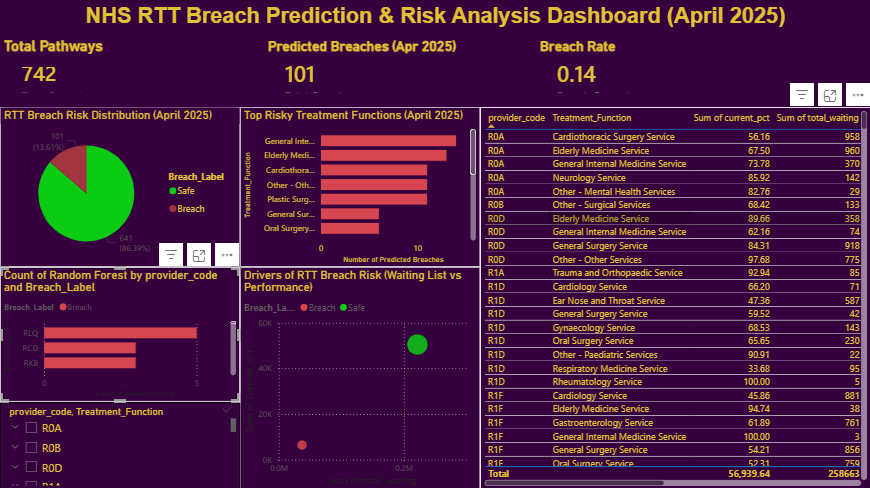

What the dashboard file says about the page in this screenshot:
{"tool":"powerbi","page":{"name":"Page 1","canvas":[1280,720],"ordinal":0},"visuals":[{"type":"cardVisual","title":"Total Pathways","fields":{"Data":["predicited_data_1 csv.Total_Records"]},"box":[0,54.4,388,102.9],"z":0},{"type":"cardVisual","title":"Predicted Breaches (Apr 2025)","fields":{"Data":["predicited_data_1 csv.Total_Breaches"]},"box":[388,54.4,399.7,102.9],"z":1},{"type":"cardVisual","title":"Breach Rate","fields":{"Data":["predicited_data_1 csv.Breach_Percentage"]},"box":[787.7,54.4,492.3,102.9],"z":2},{"type":"pieChart","title":"RTT Breach Risk Distribution (April 2025)","fields":{"Y":["CountNonNull(predicited_data_1 csv.Random Forest)"],"Category":["predicited_data_1 csv.Breach_Label"]},"box":[0,157.2,352.7,235.1],"z":3},{"type":"clusteredBarChart","title":"Top Risky Treatment Functions (April 2025)","fields":{"Category":["predicited_data_1 csv.Treatment_Function"],"Y":["CountNonNull(predicited_data_1 csv.Random Forest)"]},"box":[352.7,157.2,352.7,235.1],"z":4},{"type":"clusteredBarChart","fields":{"Category":["predicited_data_1 csv.provider_code"],"Y":["CountNonNull(predicited_data_1 csv.Random Forest)"],"Series":["predicited_data_1 csv.Breach_Label"]},"box":[0,393.1,352.8,198.2],"z":5},{"type":"scatterChart","title":"Drivers of RTT Breach Risk (Waiting List vs Performance)","fields":{"X":["Sum(predicited_data_1 csv.total_waiting)"],"Y":["Sum(predicited_data_1 csv.current_pct)"],"Size":["CountNonNull(predicited_data_1 csv.p92_wait_time)"],"Series":["predicited_data_1 csv.Breach_Label"]},"box":[352.8,393.1,352.8,327.6],"z":6},{"type":"tableEx","fields":{"Values":["predicited_data_1 csv.provider_code","predicited_data_1 csv.Treatment_Function","Sum(predicited_data_1 csv.current_pct)","Sum(predicited_data_1 csv.total_waiting)","predicited_data_1 csv.p92_wait_time","Sum(predicited_data_1 csv.pct_change_last_month)","Sum(predicited_data_1 csv.waiting_list_change)","Sum(predicited_data_1 csv.Random Forest)"]},"box":[705.4,157.2,574.6,562.8],"z":7},{"type":"slicer","fields":{"Values":["predicited_data_1 csv.provider_code","predicited_data_1 csv.Treatment_Function"]},"box":[0,591.3,352.8,129.3],"z":8},{"type":"textbox","box":[0,0,1280,54.4],"z":9}]}

Visuals, with their boxes in screenshot pixels (x1, y1, x2, y2), scaled from the page's 1280x720 canvas onto the 870x488 screenshot:
"Total Pathways" cardVisual: 0:37:264:107
"Predicted Breaches (Apr 2025)" cardVisual: 264:37:535:107
"Breach Rate" cardVisual: 535:37:869:107
"RTT Breach Risk Distribution (April 2025)" pieChart: 0:107:240:266
"Top Risky Treatment Functions (April 2025)" clusteredBarChart: 240:107:479:266
clusteredBarChart - predicited_data_1 csv.provider_code x CountNonNull(predicited_data_1 csv.Random Forest): 0:266:240:401
"Drivers of RTT Breach Risk (Waiting List vs Performance)" scatterChart: 240:266:480:487
tableEx - predicited_data_1 csv.provider_code x predicited_data_1 csv.Treatment_Function: 479:107:869:487
slicer - predicited_data_1 csv.provider_code x predicited_data_1 csv.Treatment_Function: 0:401:240:487
textbox: 0:0:869:37
